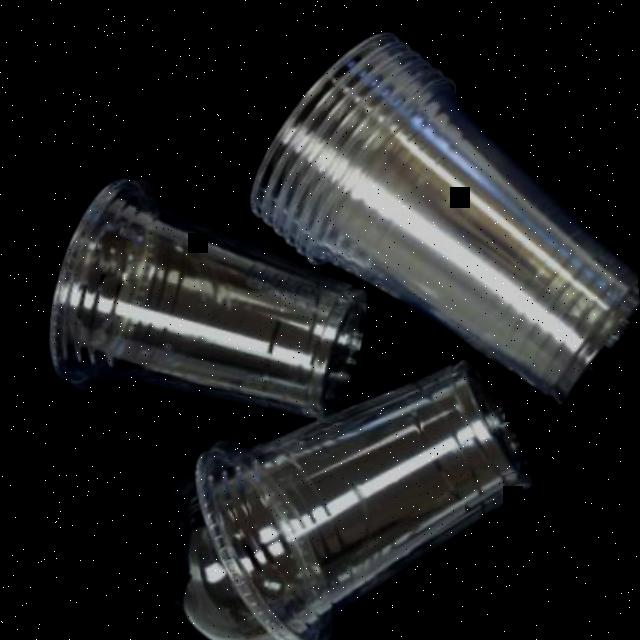plastic_box: (137, 351, 551, 640), (36, 154, 383, 439)
